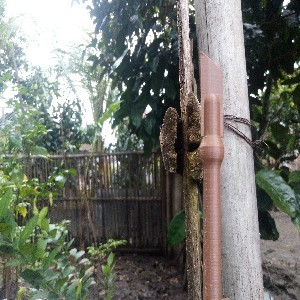cutter: (198, 49, 224, 300)
